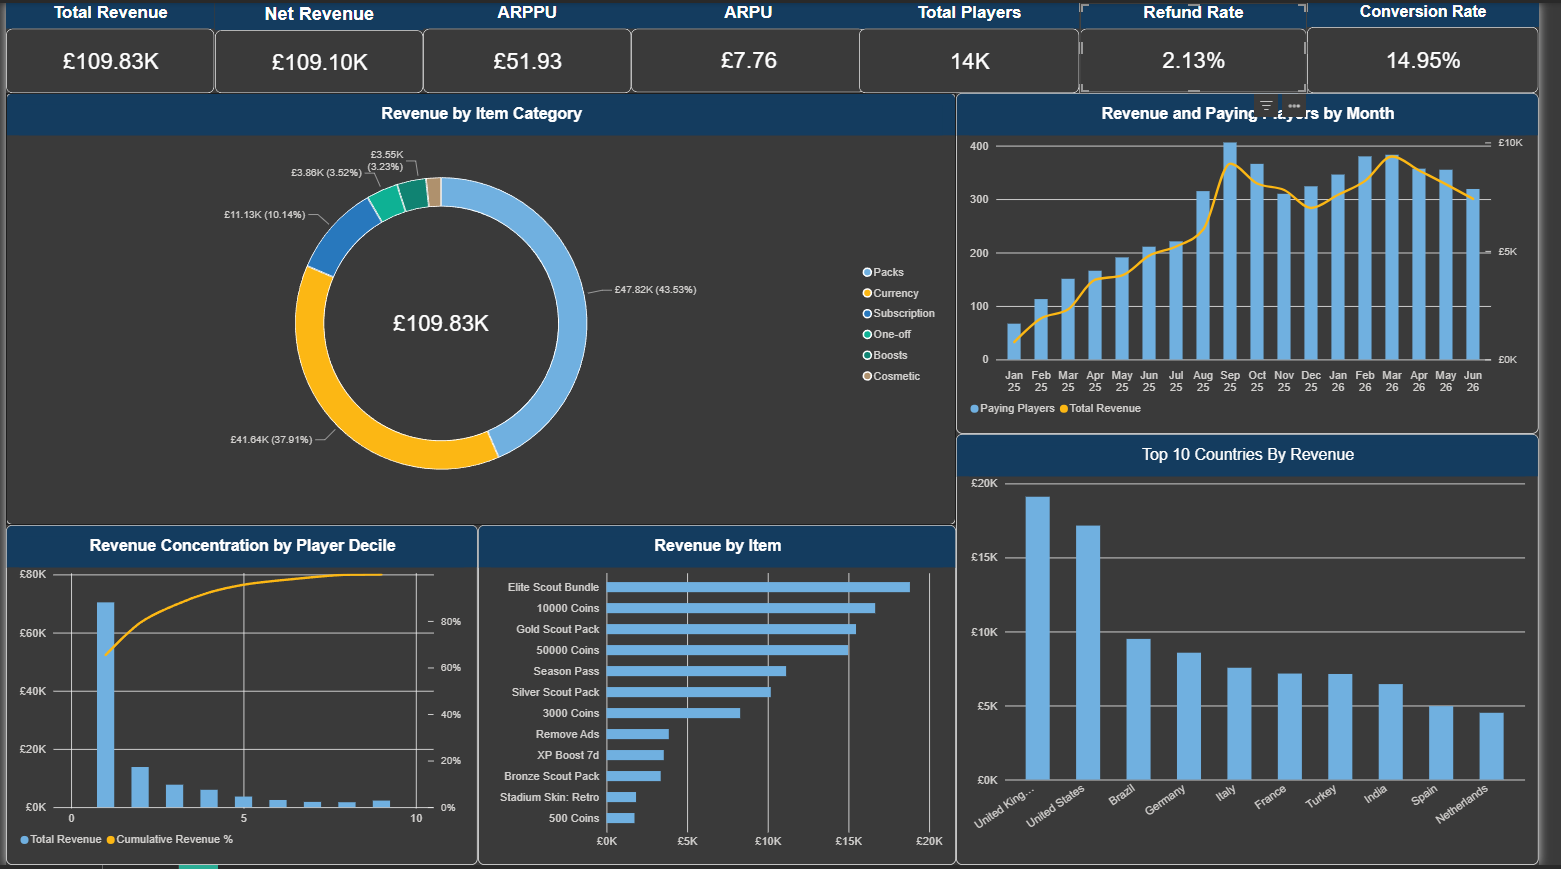

Layout of this report page (visuals, bound fields, positions):
{"tool":"powerbi","page":{"name":"Page 1","canvas":[1920,1080],"ordinal":0},"visuals":[{"type":"lineClusteredColumnComboChart","title":"Revenue and Paying Players by Month","fields":{"Category":["Date Table.Month Year"],"Y":["transactions.Paying Players"],"Y2":["transactions.Total Revenue"]},"box":[1190.4,113.1,729.9,426.9],"z":0},{"type":"barChart","title":"Revenue by Item","fields":{"Category":["items.item_name"],"Y":["transactions.Total Revenue"]},"box":[591,654.6,599.3,425.5],"z":1000},{"type":"donutChart","title":"Revenue by Item Category","fields":{"Category":["items.item_category"],"Y":["transactions.Total Revenue"]},"box":[0,113.1,1190.4,541.3],"z":2000},{"type":"clusteredColumnChart","title":"Top 10 Countries By Revenue","fields":{"Category":["players.country"],"Y":["transactions.Total Revenue"]},"box":[1190.4,540,729.9,540],"z":3000},{"type":"lineStackedColumnComboChart","title":"Revenue Concentration by Player Decile","fields":{"Category":["Player Revenue.Revenue Decile"],"Y":["transactions.Total Revenue"],"Y2":["Player Revenue.Cumulative Revenue %"]},"box":[0,654.5,591.2,425.5],"z":4000},{"type":"cardVisual","title":"Total Revenue","fields":{"Data":["transactions.Total Revenue"]},"box":[0,0,261.2,113.1],"z":4001},{"type":"cardVisual","title":"Net Revenue","fields":{"Data":["transactions.Net Revenue"]},"box":[261.2,0,261.2,113.1],"z":4002},{"type":"cardVisual","title":"ARPPU","fields":{"Data":["transactions.ARPPU"]},"box":[522.5,0,261.2,113.1],"z":4003},{"type":"cardVisual","title":"ARPU","fields":{"Data":["transactions.ARPU"]},"box":[783.1,0,294.2,112.6],"z":4004},{"type":"cardVisual","title":"Total Players","fields":{"Data":["players.Total Players"]},"box":[1069.3,0,276.1,113.1],"z":4005},{"type":"cardVisual","title":"Refund Rate","fields":{"Data":["transactions.Refund Rate %"]},"box":[1345.3,0,284.1,113.1],"z":4006},{"type":"cardVisual","title":"Conversion Rate","fields":{"Data":["transactions.Conversion Rate %"]},"box":[1629.4,0,290.9,113.1],"z":4007}]}

Visuals, with their boxes in screenshot pixels (x1, y1, x2, y2), scaled from the page's 1920x1080 canvas onto the 1561x869 screenshot:
"Revenue and Paying Players by Month" lineClusteredColumnComboChart: (left=968, top=91, right=1560, bottom=434)
"Revenue by Item" barChart: (left=480, top=527, right=968, bottom=868)
"Revenue by Item Category" donutChart: (left=0, top=91, right=968, bottom=527)
"Top 10 Countries By Revenue" clusteredColumnChart: (left=968, top=434, right=1560, bottom=868)
"Revenue Concentration by Player Decile" lineStackedColumnComboChart: (left=0, top=527, right=481, bottom=868)
"Total Revenue" cardVisual: (left=0, top=0, right=212, bottom=91)
"Net Revenue" cardVisual: (left=212, top=0, right=425, bottom=91)
"ARPPU" cardVisual: (left=425, top=0, right=637, bottom=91)
"ARPU" cardVisual: (left=637, top=0, right=876, bottom=91)
"Total Players" cardVisual: (left=869, top=0, right=1094, bottom=91)
"Refund Rate" cardVisual: (left=1094, top=0, right=1325, bottom=91)
"Conversion Rate" cardVisual: (left=1325, top=0, right=1560, bottom=91)
